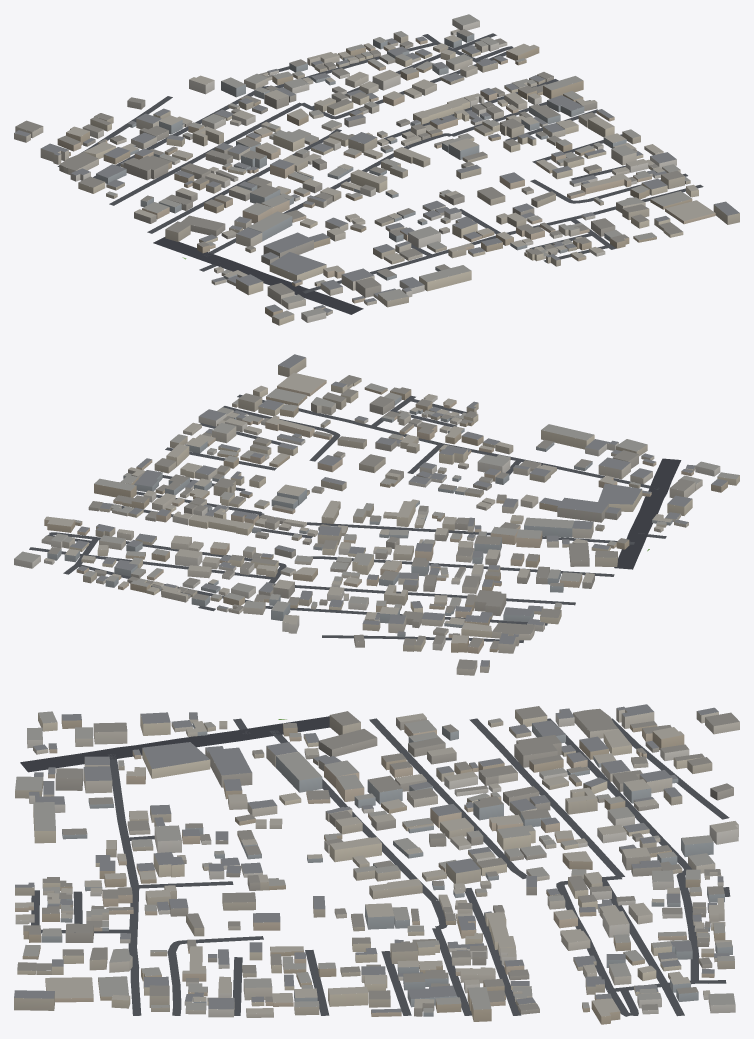
The picture shows the model from 3 angles, top to bottom: view 1: azimuth 30°, elevation 25°; view 2: azimuth 150°, elevation 25°; view 3: azimuth 270°, elevation 25°; orthographic projection. The views are drawn at different scales.
Visible parts, largest first — view 1: buildings_walls, buildings_roofs, roads; view 2: buildings_roofs, buildings_walls, roads; view 3: buildings_roofs, buildings_walls, roads.
Part boxes in pixels (x1=…): buildings_walls: x1=14, y1=19, x2=739, y2=325; buildings_roofs: x1=14, y1=14, x2=739, y2=319; roads: x1=57, y1=33, x2=703, y2=314; buildings_roofs: x1=14, y1=354, x2=739, y2=669; buildings_walls: x1=14, y1=358, x2=739, y2=675; roads: x1=29, y1=394, x2=681, y2=642; buildings_roofs: x1=14, y1=704, x2=739, y2=1016; buildings_walls: x1=14, y1=708, x2=739, y2=1024; roads: x1=20, y1=716, x2=730, y2=1016.
Bounding box in the file's own units: 523 × 9.59 × 517.
